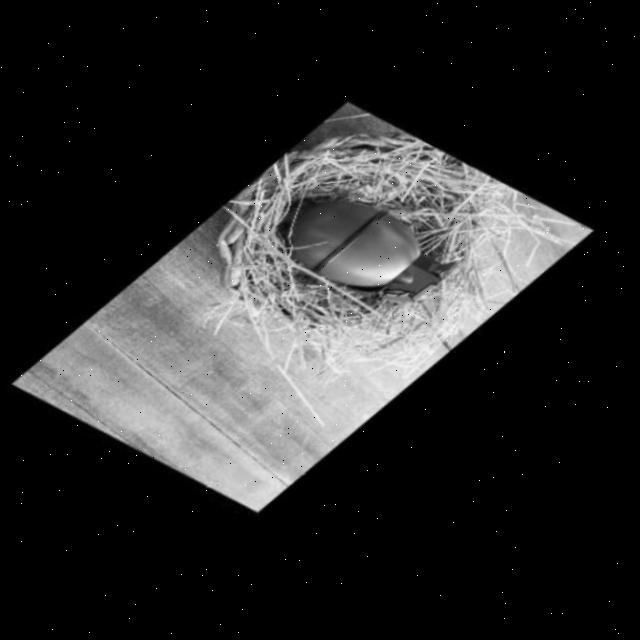grenade: (266, 161, 480, 335)
